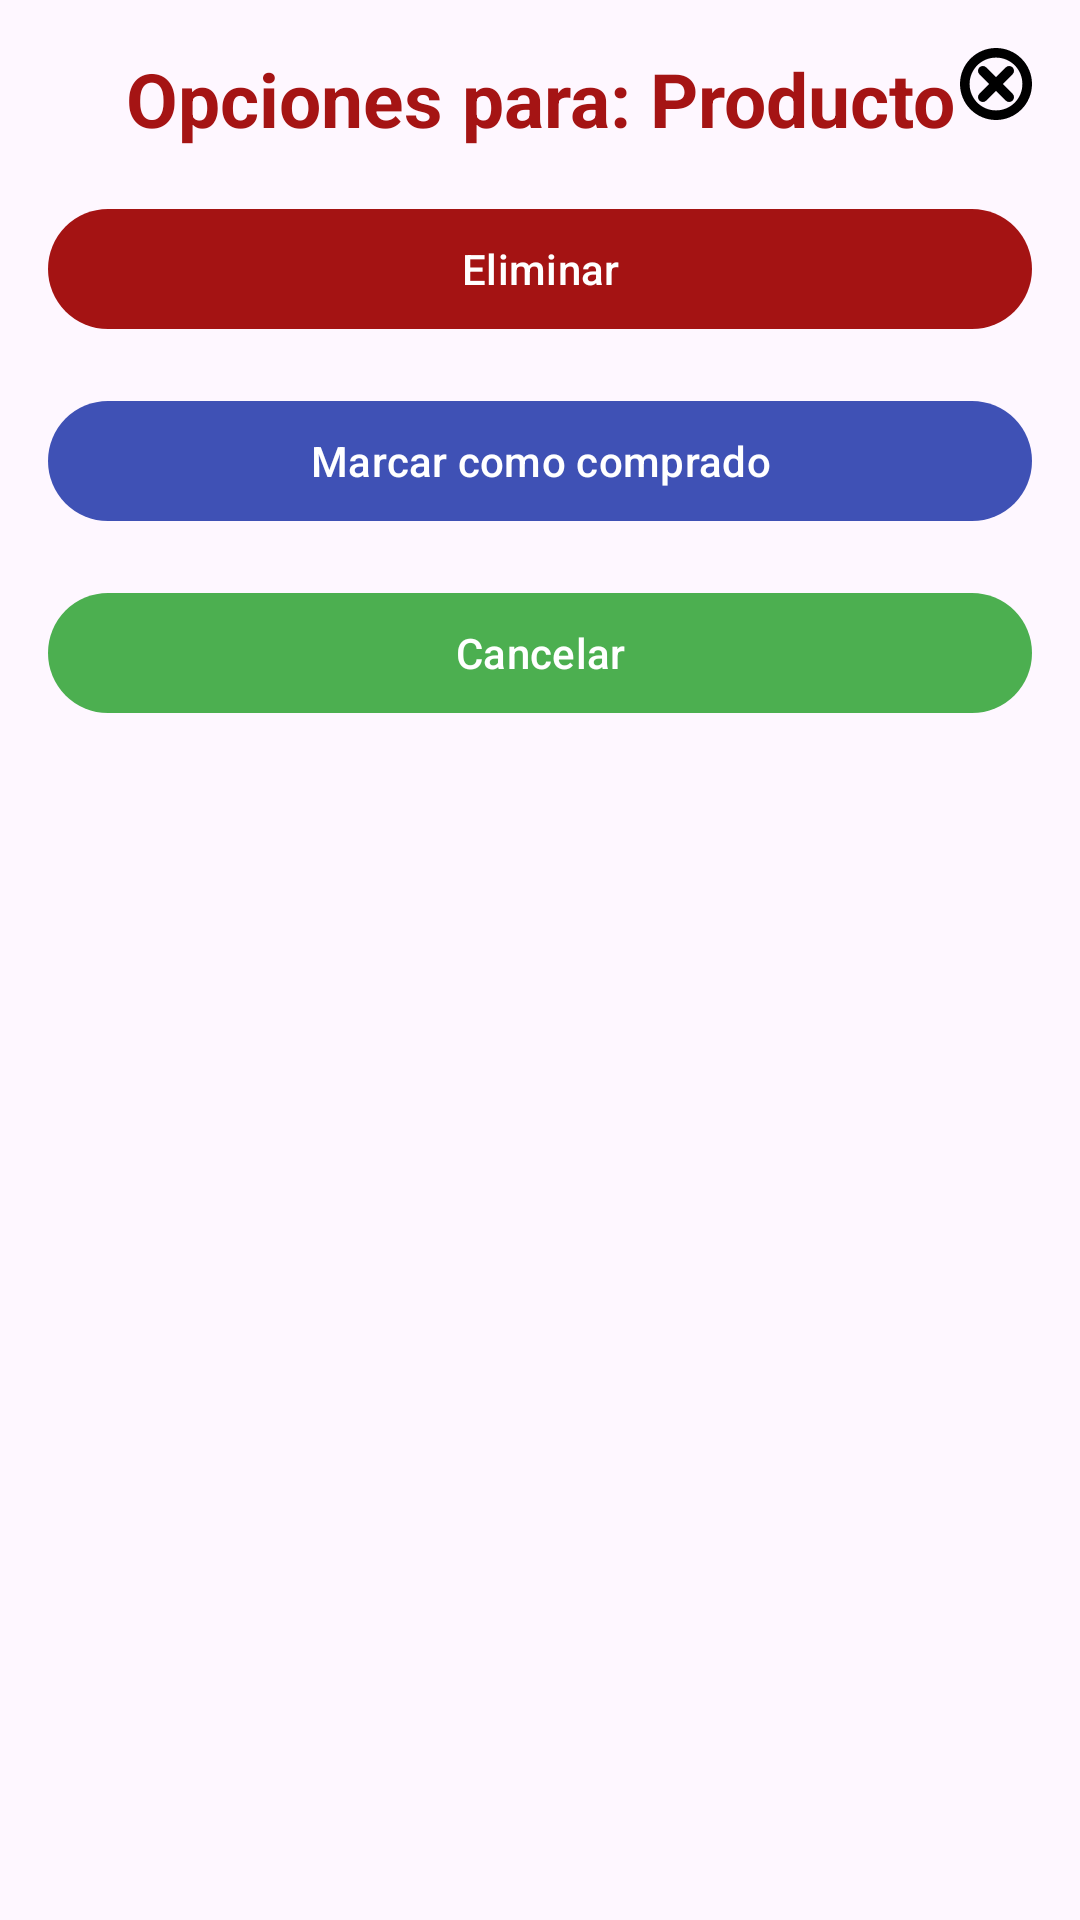

Icon bounding boxes for this 1080x1920 phone screenshot, format (x1, y1, x2, y2):
cancelar: (960, 48, 1032, 120)
